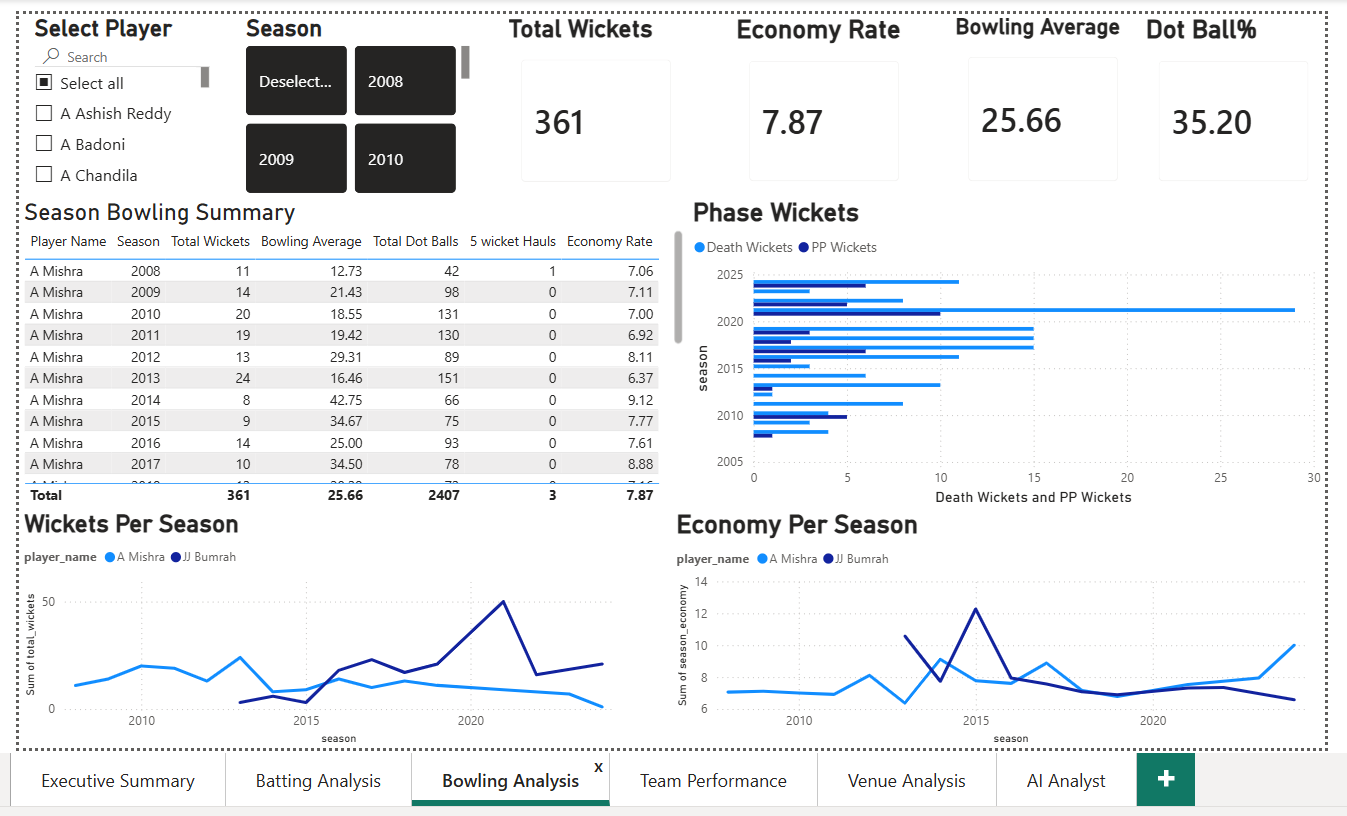

Layout of this report page (visuals, bound fields, positions):
{"tool":"powerbi","page":{"name":"Bowling Analysis","canvas":[1280,720],"ordinal":2},"visuals":[{"type":"listSlicer","title":"Select Player","fields":{"Values":["mart_bowling.player_name"]},"box":[9.7,0,181.4,181.4],"z":0},{"type":"advancedSlicerVisual","title":"Season","fields":{"Values":["mart_bowling.season"]},"box":[217,0,229.9,181.4],"z":1},{"type":"cardVisual","title":"Total Wickets","fields":{"Data":["Sum(mart_bowling.total_wickets)"]},"box":[474.4,0,181.4,181.4],"z":2},{"type":"cardVisual","title":"Economy Rate","fields":{"Data":["Avg(mart_bowling.season_economy)"]},"box":[697.9,0,181.4,181.4],"z":3},{"type":"cardVisual","title":"Bowling Average","fields":{"Data":["Avg(mart_bowling.bowling_average)"]},"box":[913.2,0,181.4,181.4],"z":4},{"type":"cardVisual","title":"Dot Ball%","fields":{"Data":["Avg(mart_bowling.season_dot_pct)"]},"box":[1099.5,0,181.4,181.4],"z":5},{"type":"lineChart","title":"Wickets Per Season","fields":{"Y":["Sum(mart_bowling.total_wickets)"],"Category":["mart_bowling.season"],"Series":["mart_bowling.player_name"]},"box":[0,485.8,589.4,234.8],"z":6},{"type":"lineChart","title":"Economy Per Season","fields":{"Category":["mart_bowling.season"],"Y":["Sum(mart_bowling.season_economy)"],"Series":["mart_bowling.player_name"]},"box":[639.6,485.8,628.3,234.8],"z":7},{"type":"clusteredBarChart","title":"Phase Wickets","fields":{"Y":["mart_bowling.Death Wickets","mart_bowling.PP Wickets"],"Category":["mart_bowling.season"]},"box":[655.8,179.7,625,306],"z":8},{"type":"tableEx","title":"Season Bowling Summary","fields":{"Values":["mart_bowling.player_name","mart_bowling.season","Sum(mart_bowling.total_wickets)","Avg(mart_bowling.bowling_average)","Sum(mart_bowling.total_dot_balls)","Sum(mart_bowling.five_wicket_hauls)","Avg(mart_bowling.season_economy)"]},"box":[0,181.4,655.8,304.4],"z":9}]}

Visuals, with their boxes on the page's 1280x720 design canvas (x1, y1, x2, y2). These are canvas units, not pixel positions in the 1347x816 screenshot, which may show the page scaled, cropped or inside an application window:
"Select Player" listSlicer: [10, 0, 191, 181]
"Season" advancedSlicerVisual: [217, 0, 447, 181]
"Total Wickets" cardVisual: [474, 0, 656, 181]
"Economy Rate" cardVisual: [698, 0, 879, 181]
"Bowling Average" cardVisual: [913, 0, 1095, 181]
"Dot Ball%" cardVisual: [1100, 0, 1281, 181]
"Wickets Per Season" lineChart: [0, 486, 589, 721]
"Economy Per Season" lineChart: [640, 486, 1268, 721]
"Phase Wickets" clusteredBarChart: [656, 180, 1281, 486]
"Season Bowling Summary" tableEx: [0, 181, 656, 486]
